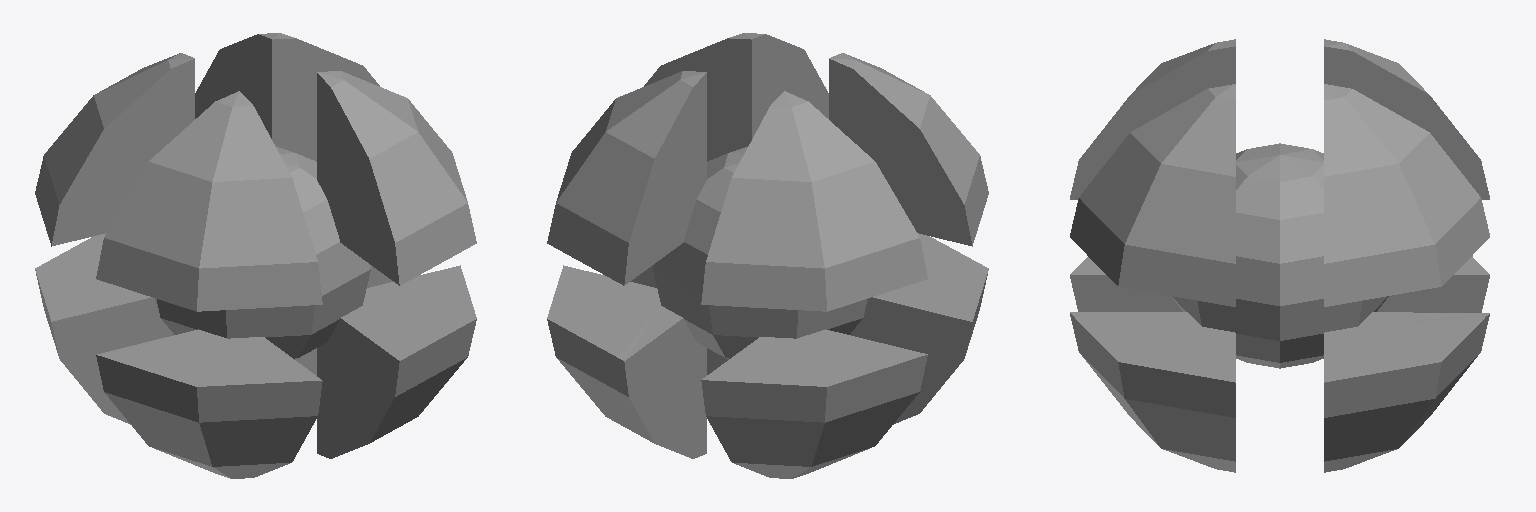
File: player.obj
3 views of the same model, side by side, from view 1: azimuth 30°, elevation 25°; view 2: azimuth 150°, elevation 25°; view 3: azimuth 270°, elevation 25° (orthographic).
Visible parts, largest first — view 1: Player; view 2: Player; view 3: Player.
Boxes of the visible parts, <box> form: Player: <box>35,33,476,478</box>; Player: <box>547,33,988,478</box>; Player: <box>1070,39,1489,472</box>.
Bounding box in the file's own units: 0.7748 × 0.7749 × 0.7748.